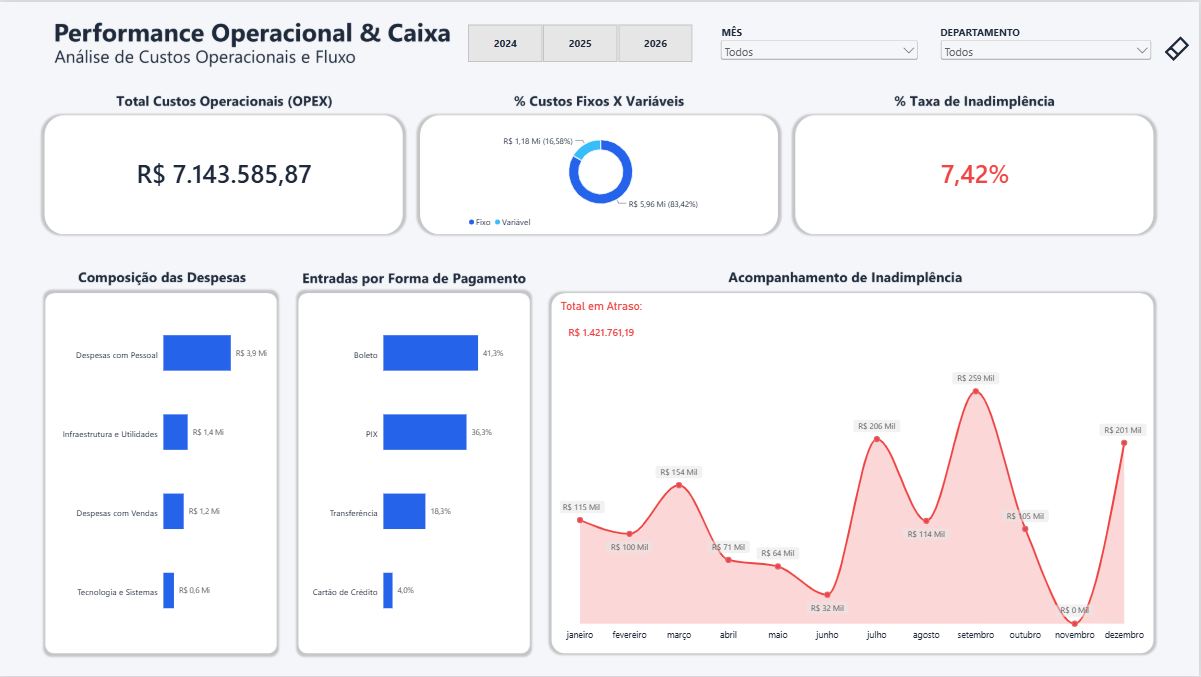

What the dashboard file says about the page in this screenshot:
{"tool":"powerbi","page":{"name":"PERFORMANCE OPERACIONAL & CAIXA","canvas":[1920,1080],"ordinal":3},"visuals":[{"type":"cardVisual","fields":{"Data":["MEDIDAS.Total OPEX"]},"box":[71.7,178.3,576.7,190],"z":0},{"type":"donutChart","fields":{"Category":["dCentroCusto.Tipo_Custo"],"Y":["MEDIDAS.Total OPEX"]},"box":[733.8,191.2,457.5,190],"z":1000},{"type":"cardVisual","fields":{"Data":["MEDIDAS.% Inadimplência"]},"box":[1274.3,178.6,576.7,190],"z":2000},{"type":"barChart","fields":{"Category":["dCentroCusto.Categoria_DRE"],"Y":["MEDIDAS.Custos e despesas totais"]},"box":[71.4,460,372.9,582.9],"z":3000},{"type":"barChart","fields":{"Category":["fFinanceiro.Forma_Pagamento"],"Y":["MEDIDAS.Receita total"]},"box":[478.6,460,372.9,582.9],"z":4000},{"type":"areaChart","fields":{"Category":["dCalendario.AnoMes.Variation.Hierarquia de datas.Mês"],"Y":["MEDIDAS.Total inadimplência"]},"box":[881.7,540,970,503.3],"z":5000},{"type":"cardVisual","title":"Total em Atraso:","fields":{"Data":["MEDIDAS.Total inadimplência"]},"box":[885,475,155,66.7],"z":6000},{"type":"slicer","fields":{"Values":["dCalendario.Ano"]},"box":[730,33.3,398.3,63.3],"z":7000},{"type":"slicer","fields":{"Values":["dCalendario.AnoMes.Variation.Hierarquia de datas.Mês"]},"box":[1149.1,56.7,325,41.7],"z":8000},{"type":"textbox","box":[1156.8,37,268.3,45],"z":9000},{"type":"textbox","box":[1506.3,36.7,268.3,45],"z":10000},{"type":"slicer","fields":{"Values":["dCentroCusto.Departamento"]},"box":[1501.3,56.7,346.7,41.7],"z":11000},{"type":"actionButton","box":[1855,46.7,58.3,58.3],"z":12000}]}

Visuals, with their boxes in screenshot pixels (x1, y1, x2, y2), scaled from the page's 1920x1080 canvas onto the 1201x677 screenshot:
cardVisual - MEDIDAS.Total OPEX: select_region(45, 112, 406, 231)
donutChart - dCentroCusto.Tipo_Custo x MEDIDAS.Total OPEX: select_region(459, 120, 745, 239)
cardVisual - MEDIDAS.% Inadimplência: select_region(797, 112, 1158, 231)
barChart - dCentroCusto.Categoria_DRE x MEDIDAS.Custos e despesas totais: select_region(45, 288, 278, 654)
barChart - fFinanceiro.Forma_Pagamento x MEDIDAS.Receita total: select_region(299, 288, 533, 654)
areaChart - dCalendario.AnoMes.Variation.Hierarquia de datas.Mês x MEDIDAS.Total inadimplência: select_region(552, 338, 1158, 654)
"Total em Atraso:" cardVisual: select_region(554, 298, 651, 340)
slicer - dCalendario.Ano: select_region(457, 21, 706, 61)
slicer - dCalendario.AnoMes.Variation.Hierarquia de datas.Mês: select_region(719, 36, 922, 62)
textbox: select_region(724, 23, 891, 51)
textbox: select_region(942, 23, 1110, 51)
slicer - dCentroCusto.Departamento: select_region(939, 36, 1156, 62)
actionButton: select_region(1160, 29, 1197, 66)
